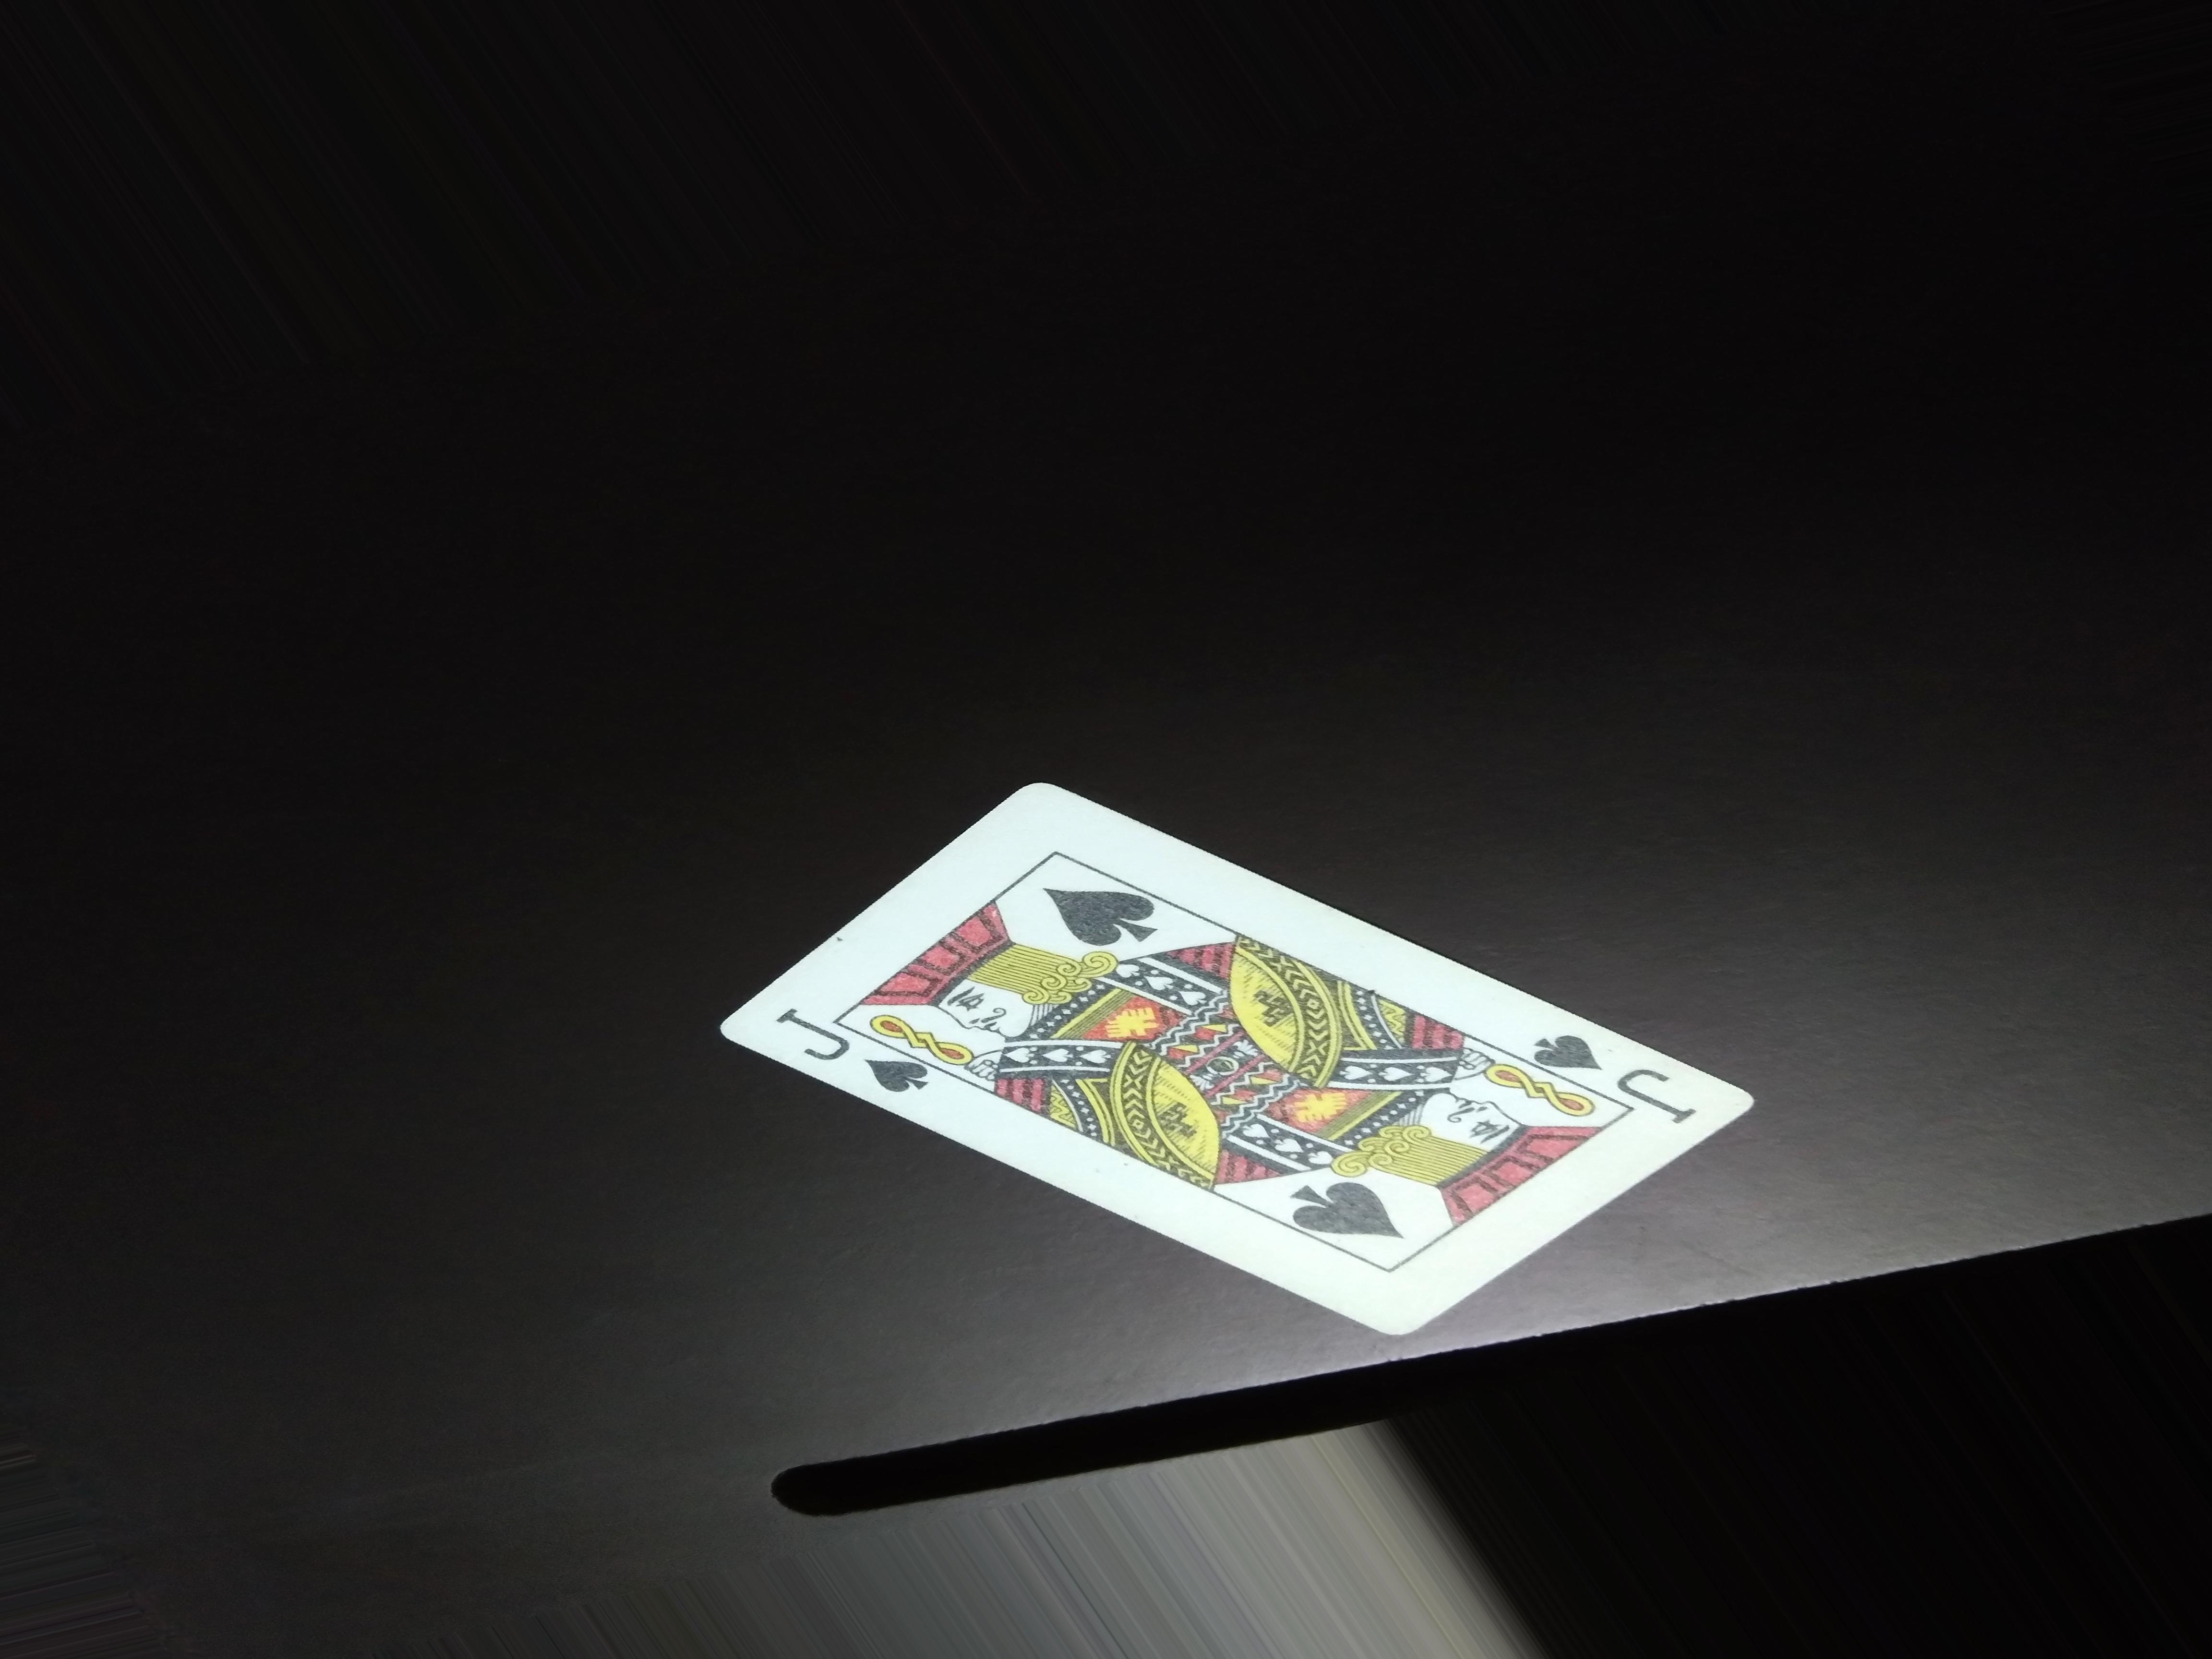JS: (1536, 1023, 1698, 1124)
